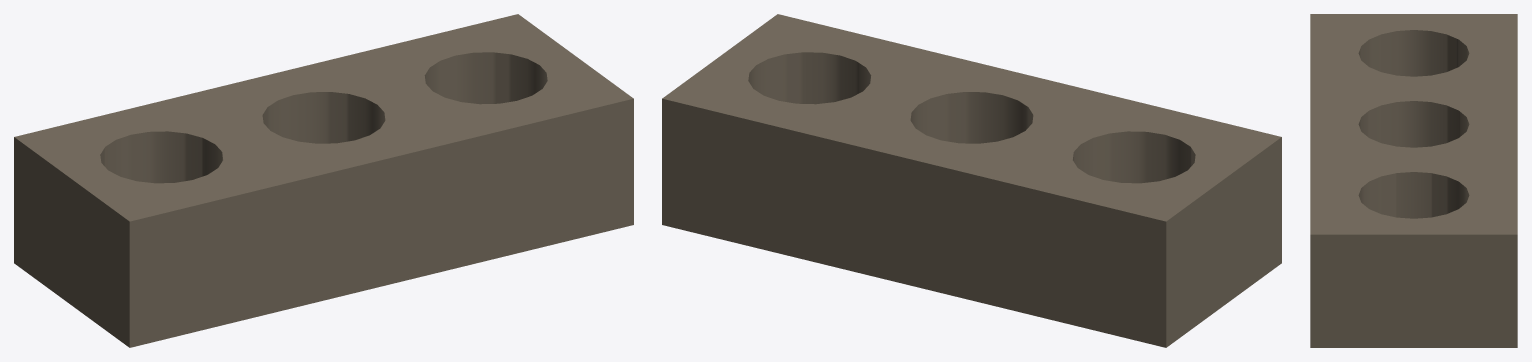
The model's file is Brick2.fbx.
3 views of the same model, side by side, from view 1: azimuth 30°, elevation 25°; view 2: azimuth 150°, elevation 25°; view 3: azimuth 270°, elevation 25° (orthographic). The views are drawn at different scales.
Parts seen in each view (by area): view 1: polySurface1; view 2: polySurface1; view 3: polySurface1.
Part boxes in pixels (bbox=[...]): polySurface1: bbox=[14, 14, 633, 347]; polySurface1: bbox=[662, 14, 1281, 347]; polySurface1: bbox=[1310, 14, 1517, 347].
Bounding box in the file's own units: 0.6819 × 0.1633 × 0.2709.
